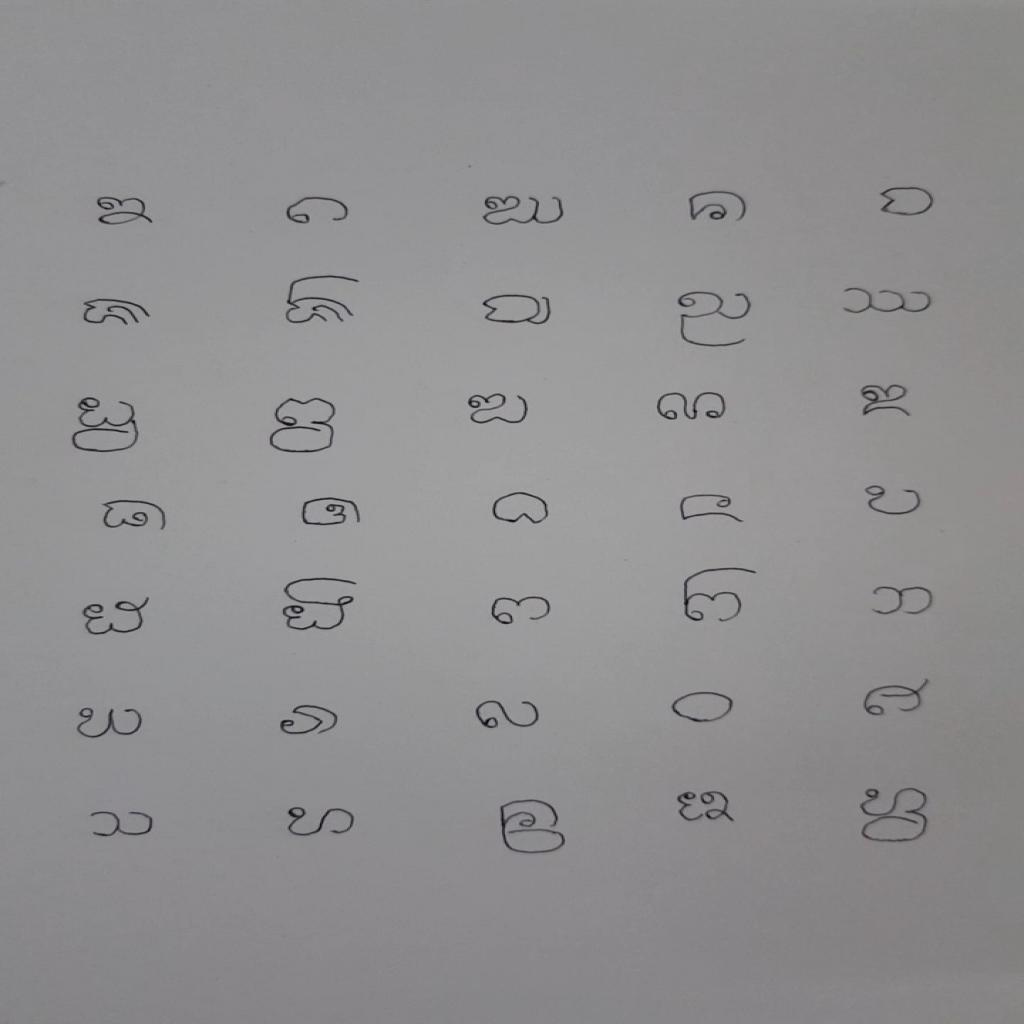LN002: (91, 195, 162, 230)
LN003: (281, 194, 357, 228)
LN004: (479, 192, 573, 229)
LN005: (682, 189, 756, 226)
LN006: (876, 184, 942, 220)
LN008: (78, 295, 159, 331)
LN009: (281, 272, 369, 329)
LN010: (477, 291, 560, 330)
LN011: (674, 289, 761, 352)
LN012: (836, 284, 942, 319)
LN014: (66, 394, 150, 459)
LN015: (266, 394, 345, 458)
LN016: (462, 391, 537, 430)
LN017: (652, 389, 735, 426)
LN018: (851, 381, 920, 422)
LN020: (97, 496, 176, 537)
LN021: (294, 494, 370, 531)
LN022: (487, 489, 558, 530)
LN023: (675, 492, 751, 527)
LN024: (860, 483, 931, 521)
LN026: (80, 595, 156, 640)
LN027: (277, 575, 364, 636)
LN028: (486, 593, 556, 630)
LN029: (679, 564, 763, 627)
LN030: (860, 584, 942, 620)
LN032: (71, 703, 149, 744)
LN033: (275, 703, 346, 740)
LN034: (469, 697, 545, 733)
LN035: (667, 688, 741, 727)
LN036: (859, 675, 936, 722)
LN038: (85, 806, 160, 843)
LN039: (282, 804, 362, 842)
LN040: (492, 796, 574, 859)
LN041: (669, 787, 744, 829)
LN042: (854, 785, 938, 849)
